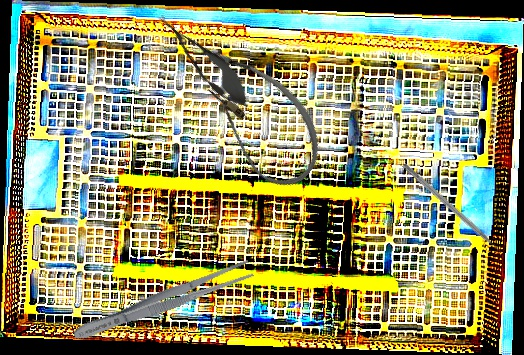Cannula: (174, 36, 342, 201)
Dressing Forceps: (69, 255, 256, 348)
Hook Surgical: (401, 162, 508, 259)
Micro Scissor: (148, 5, 261, 117)
